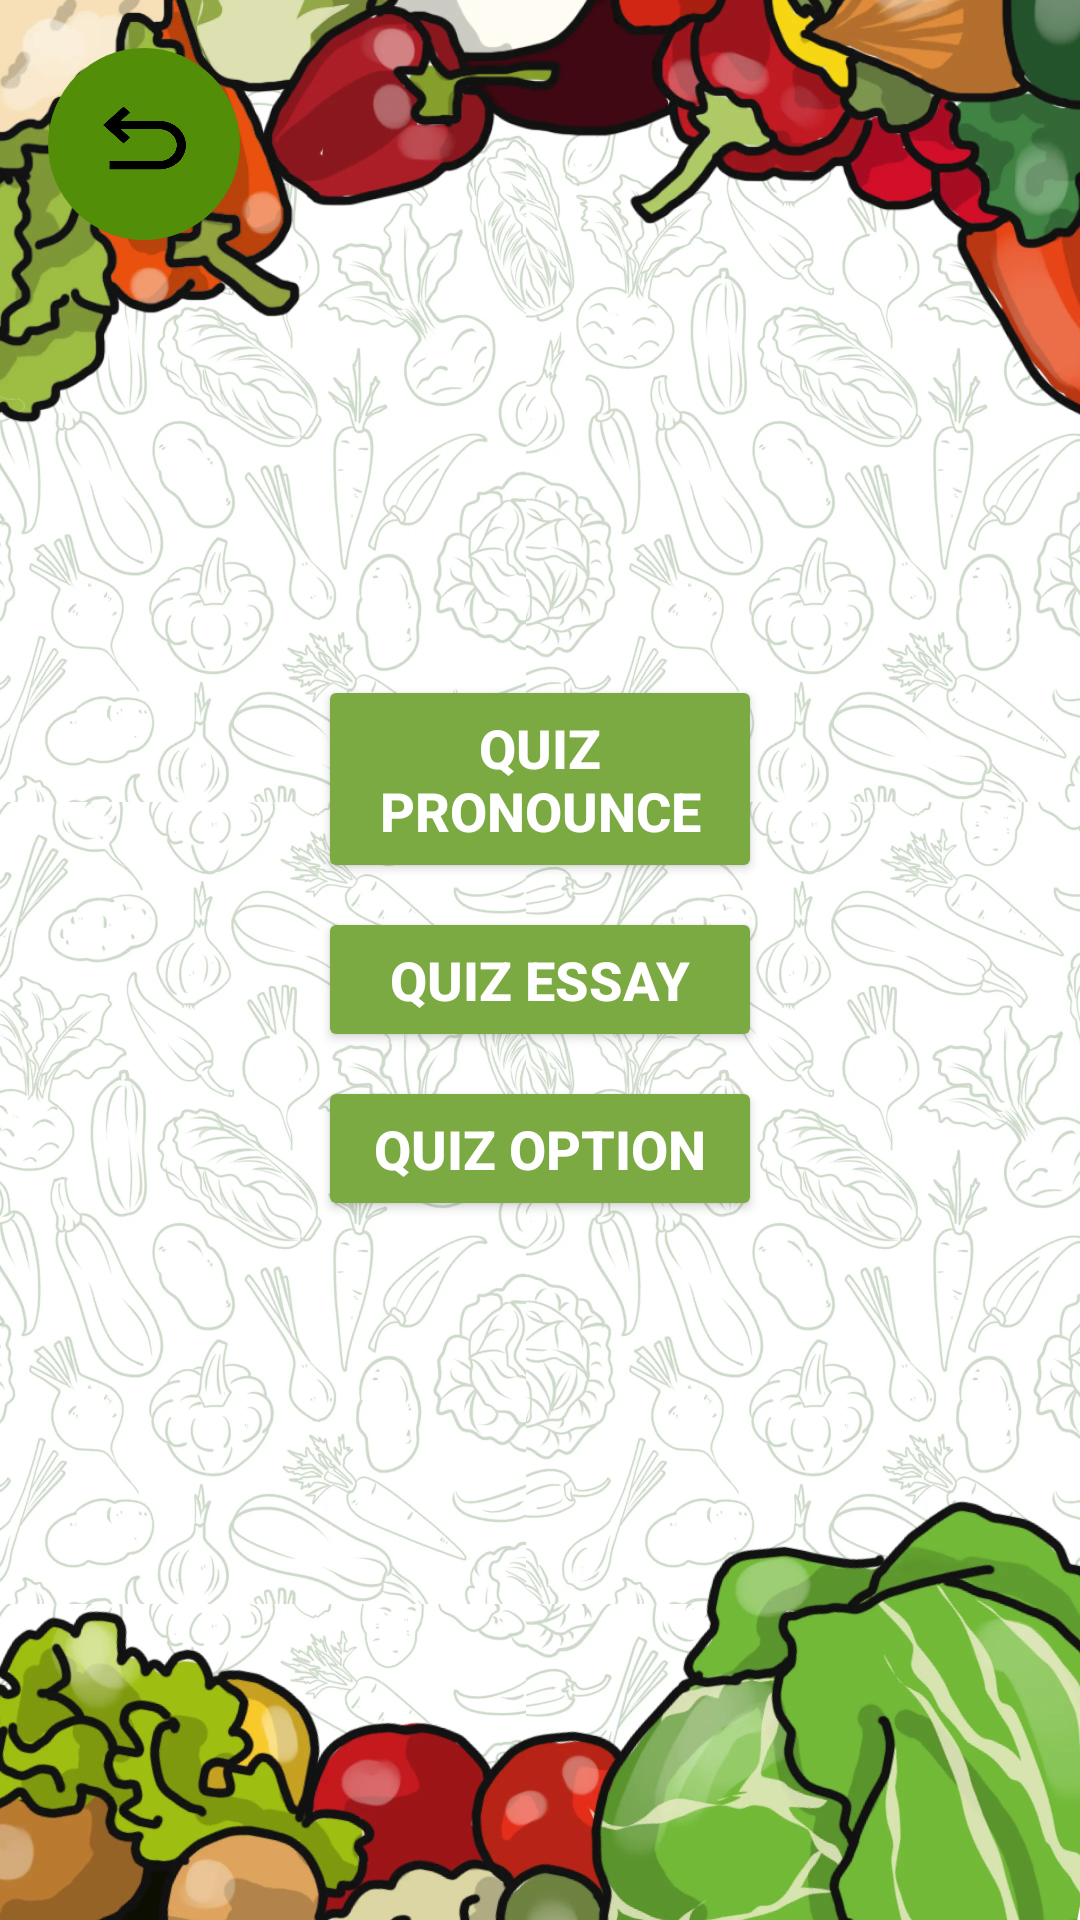

Locate icon controls on the screen. Image size 1080*1920, boxes as {"x1": x1, "y1": y1, "x2": x2, "y2": y2}.
turn left: {"x1": 103, "y1": 107, "x2": 186, "y2": 170}
